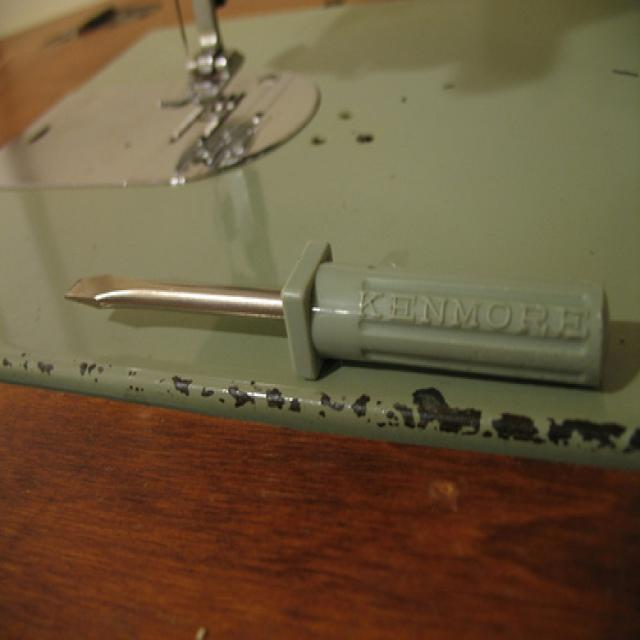screwdriver: (36, 248, 640, 376)
